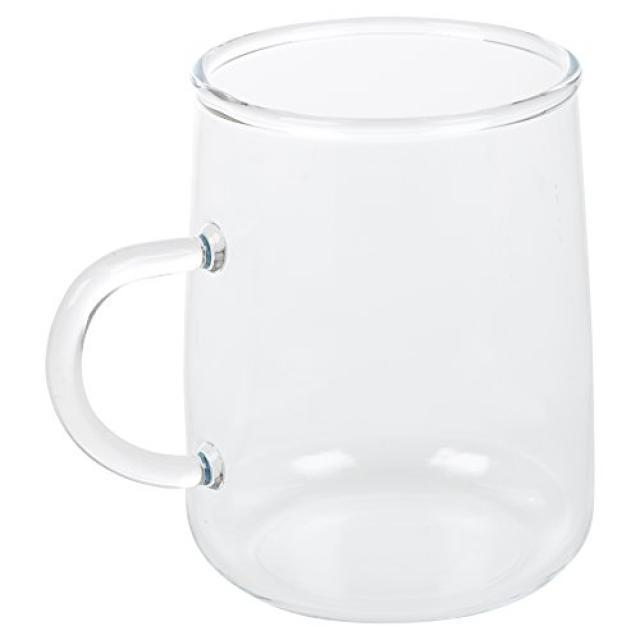Coffee Mug: (46, 16, 592, 624)
